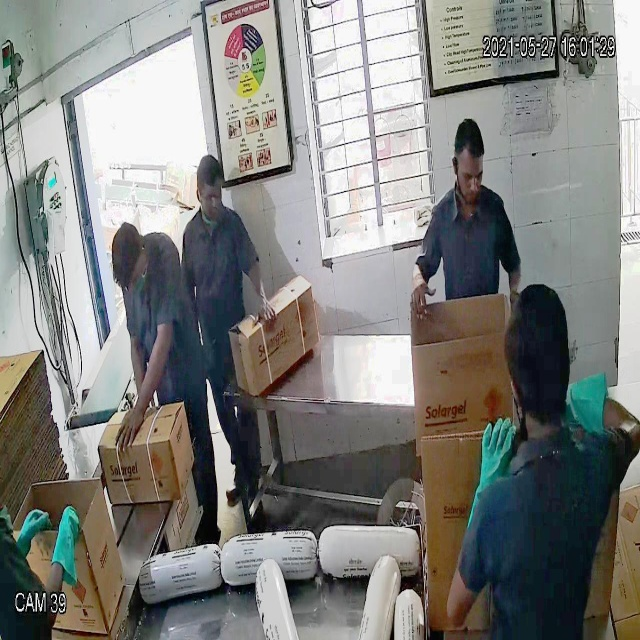Sin_gafas: (448, 155, 488, 190)
